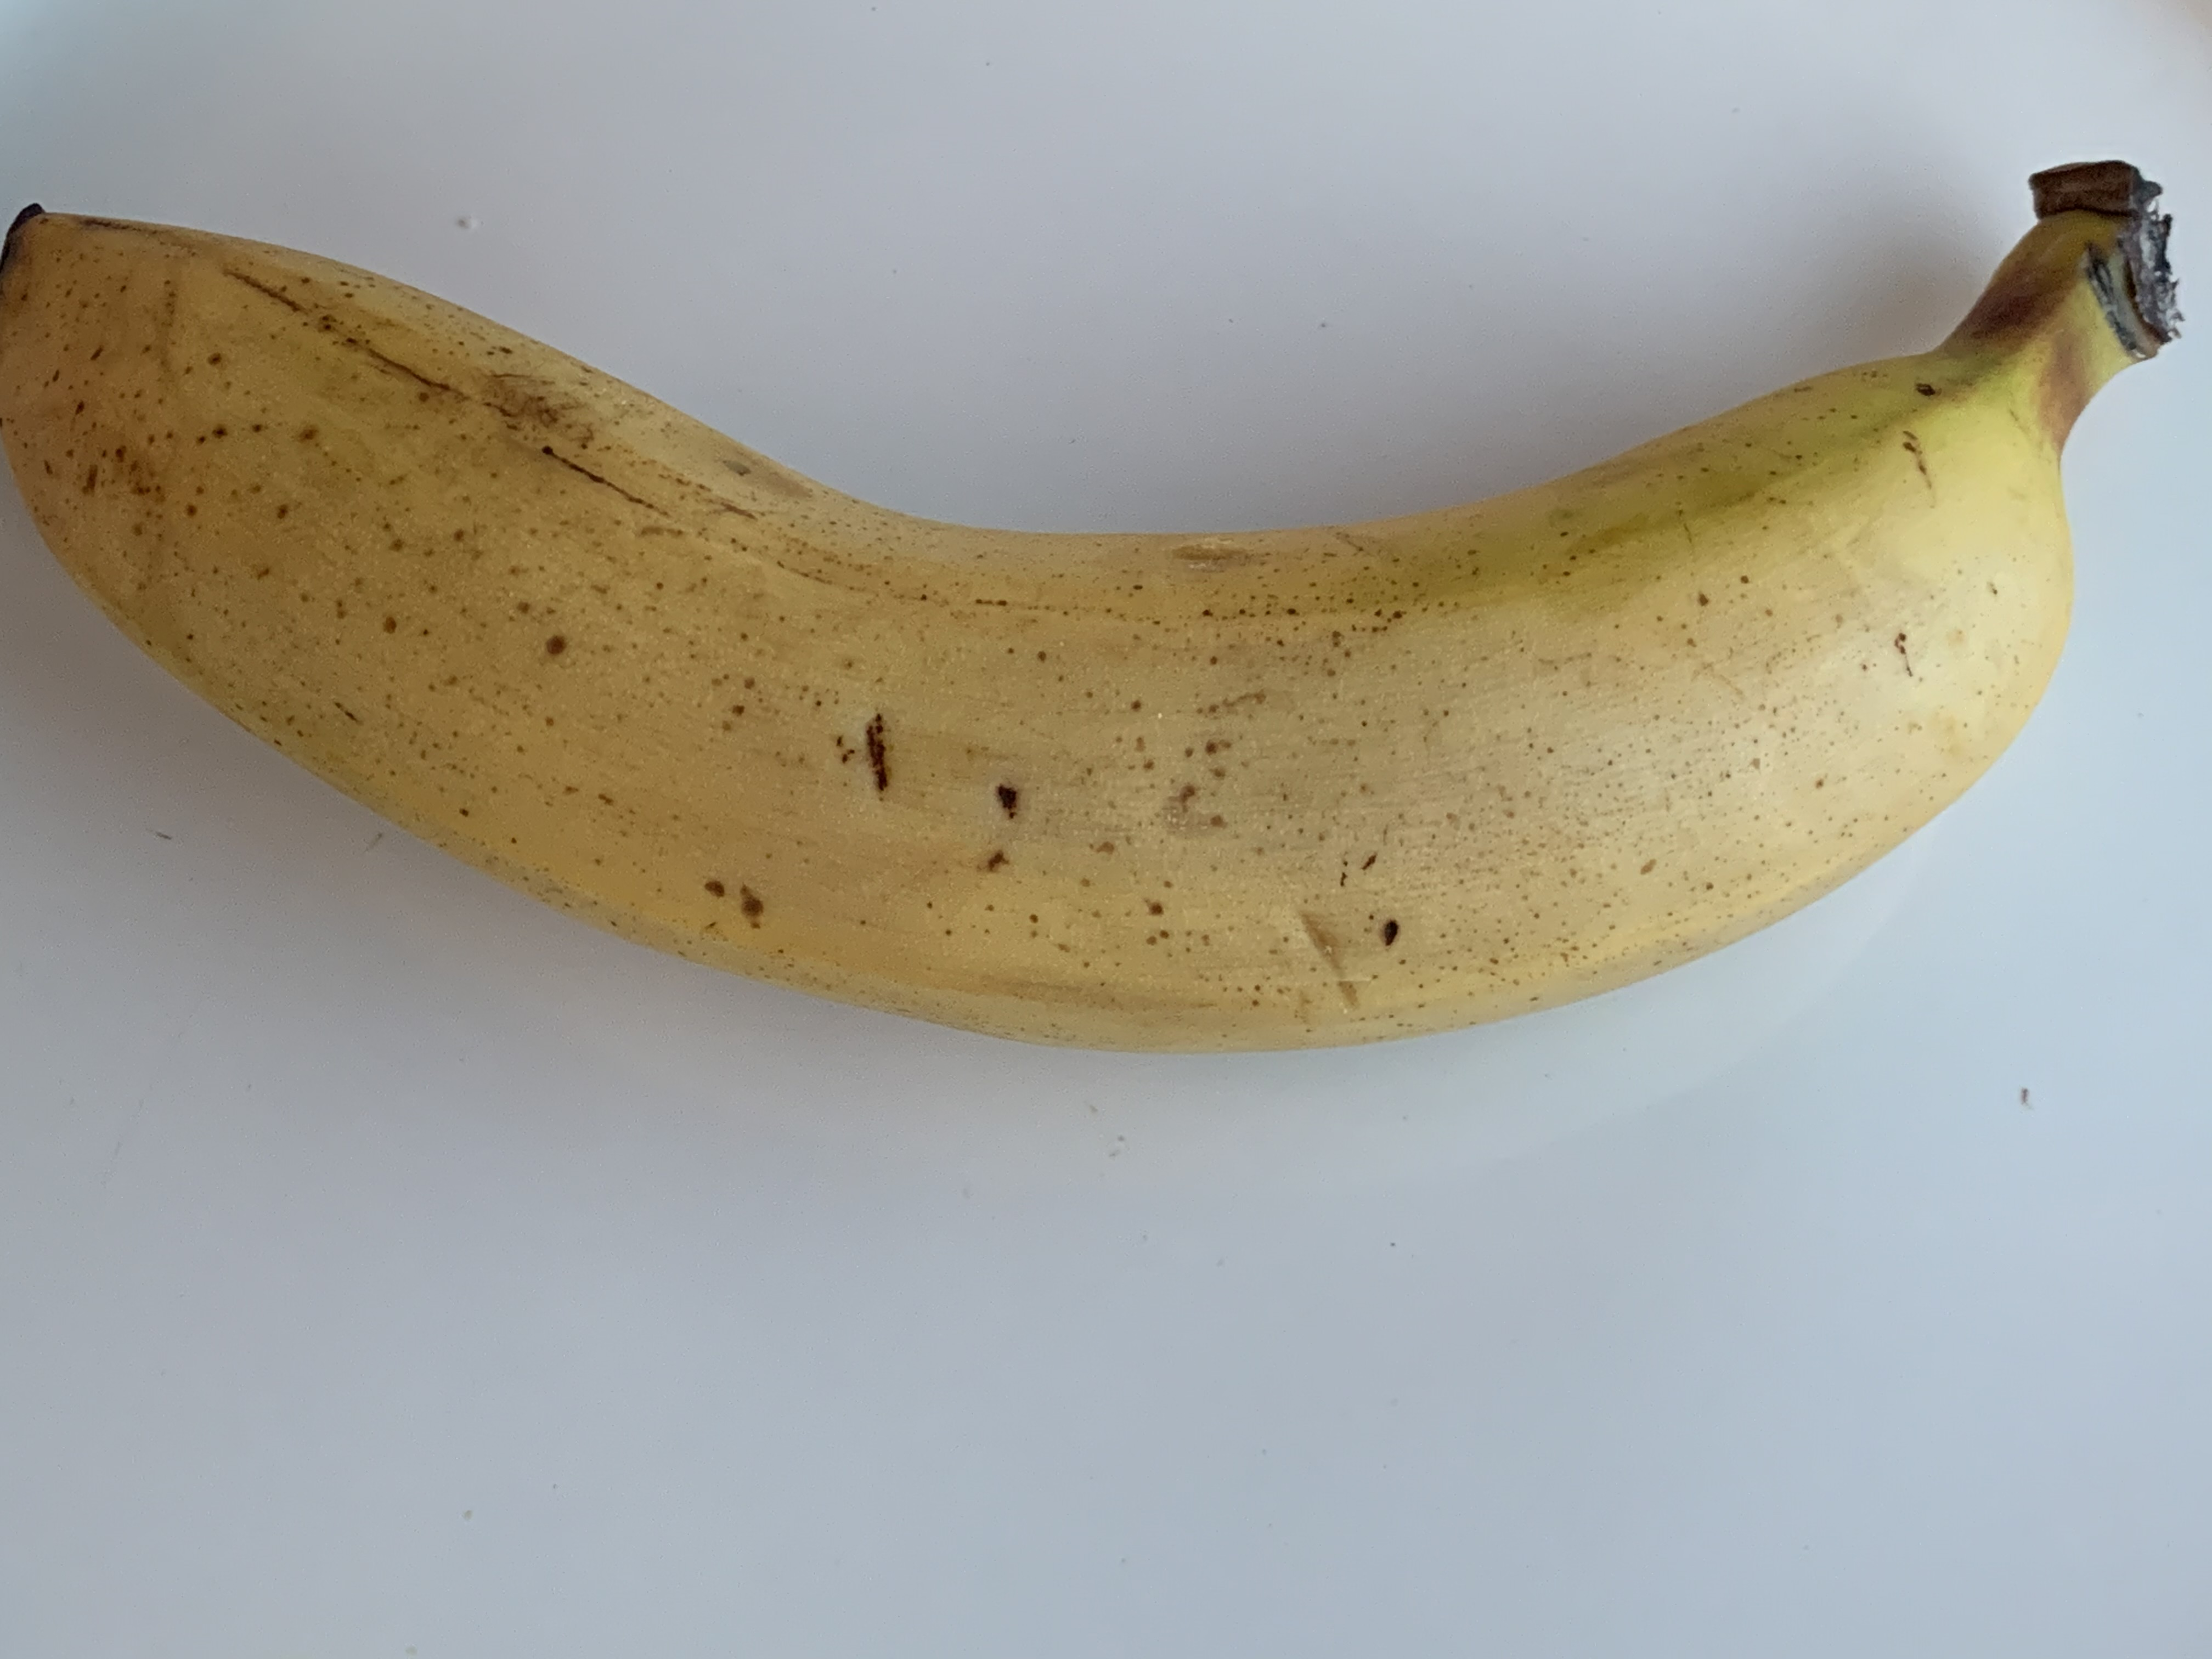banana: (7, 129, 2212, 1049)
